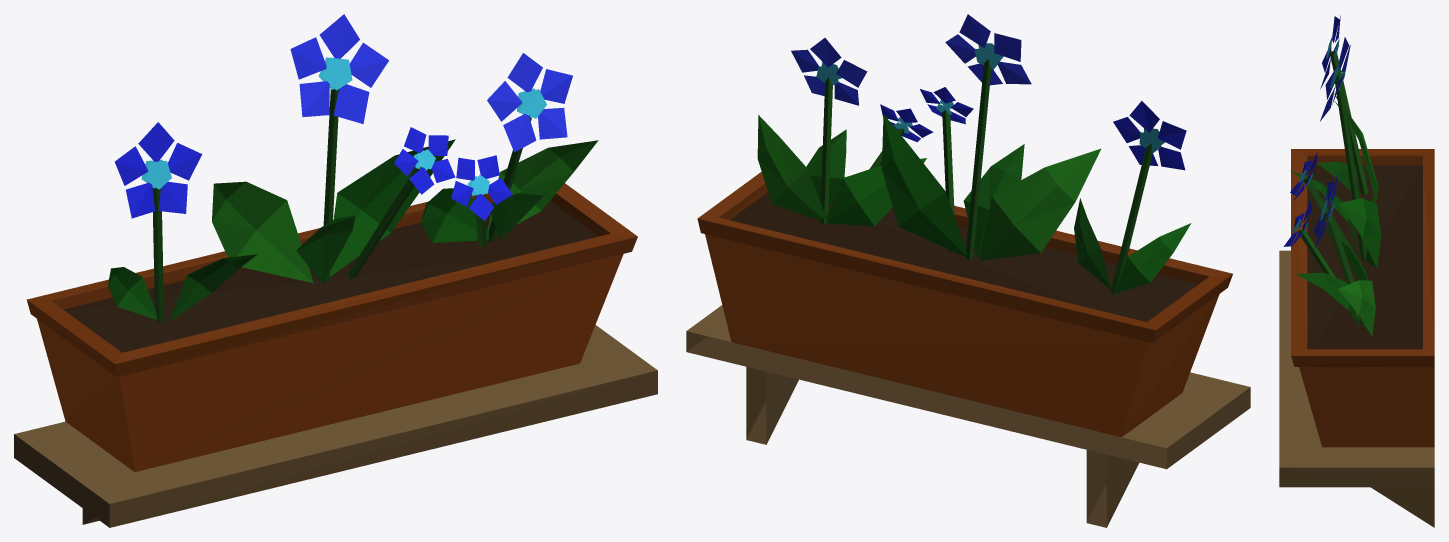
The model's file is window_box.obj.
3 views of the same model, side by side, from view 1: azimuth 30°, elevation 25°; view 2: azimuth 150°, elevation 25°; view 3: azimuth 270°, elevation 25° (orthographic). The views are drawn at different scales.
Parts seen in each view (by area): view 1: Object Window box; view 2: Object Window box; view 3: Object Window box.
Boxes of the visible parts, x1,y1,x2,y2 form: Object Window box: (14,14,657,527); Object Window box: (686,14,1250,527); Object Window box: (1279,15,1434,527).
Bounding box in the file's own units: 96 × 83.25 × 29.
